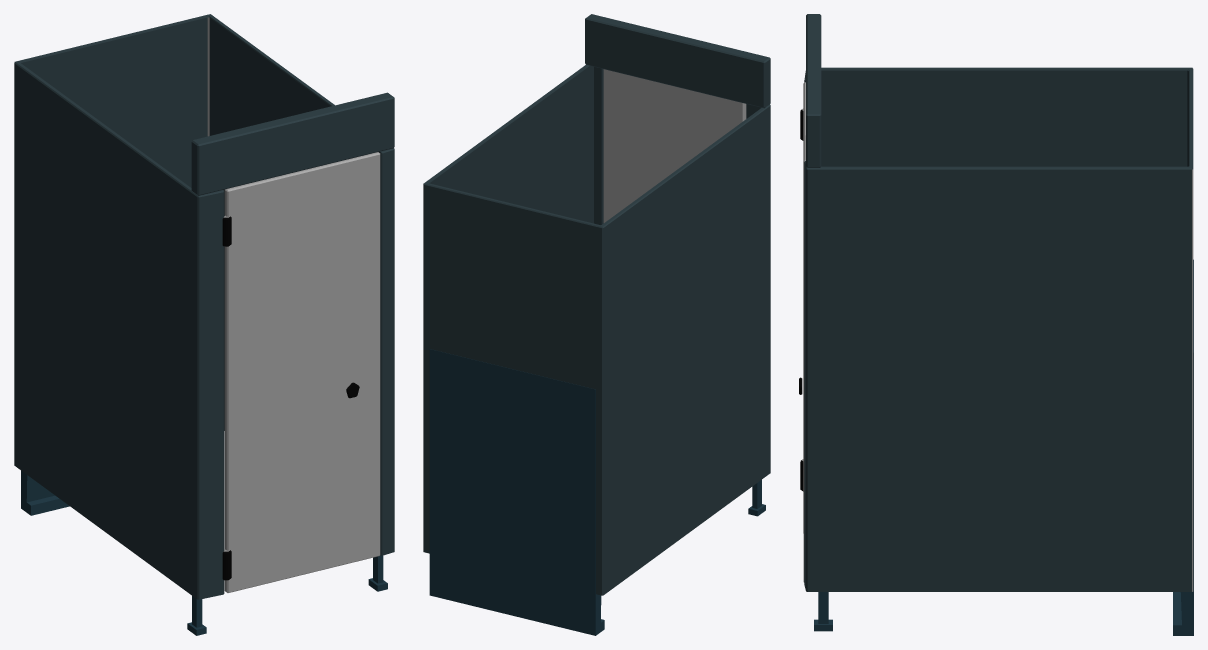
File: Toilet-Cubicle-Bathroom_01.fbx
3 views of the same model, side by side, from view 1: azimuth 30°, elevation 25°; view 2: azimuth 150°, elevation 25°; view 3: azimuth 270°, elevation 25° (orthographic). The views are drawn at different scales.
Visible parts, largest first — view 1: Toilet-Cubicle_01, Toilet-Door_01; view 2: Toilet-Cubicle_01, Toilet-Door_01; view 3: Toilet-Cubicle_01, Toilet-Door_01.
Boxes of the visible parts, box(x1,y1,x2,y2) form: Toilet-Cubicle_01: box(14, 14, 394, 635); Toilet-Door_01: box(224, 152, 380, 592); Toilet-Cubicle_01: box(423, 14, 770, 635); Toilet-Door_01: box(603, 69, 746, 222); Toilet-Cubicle_01: box(800, 14, 1193, 635); Toilet-Door_01: box(799, 82, 805, 582).
Size of the model in its own units: 1.15 by 2.78 by 1.89.
